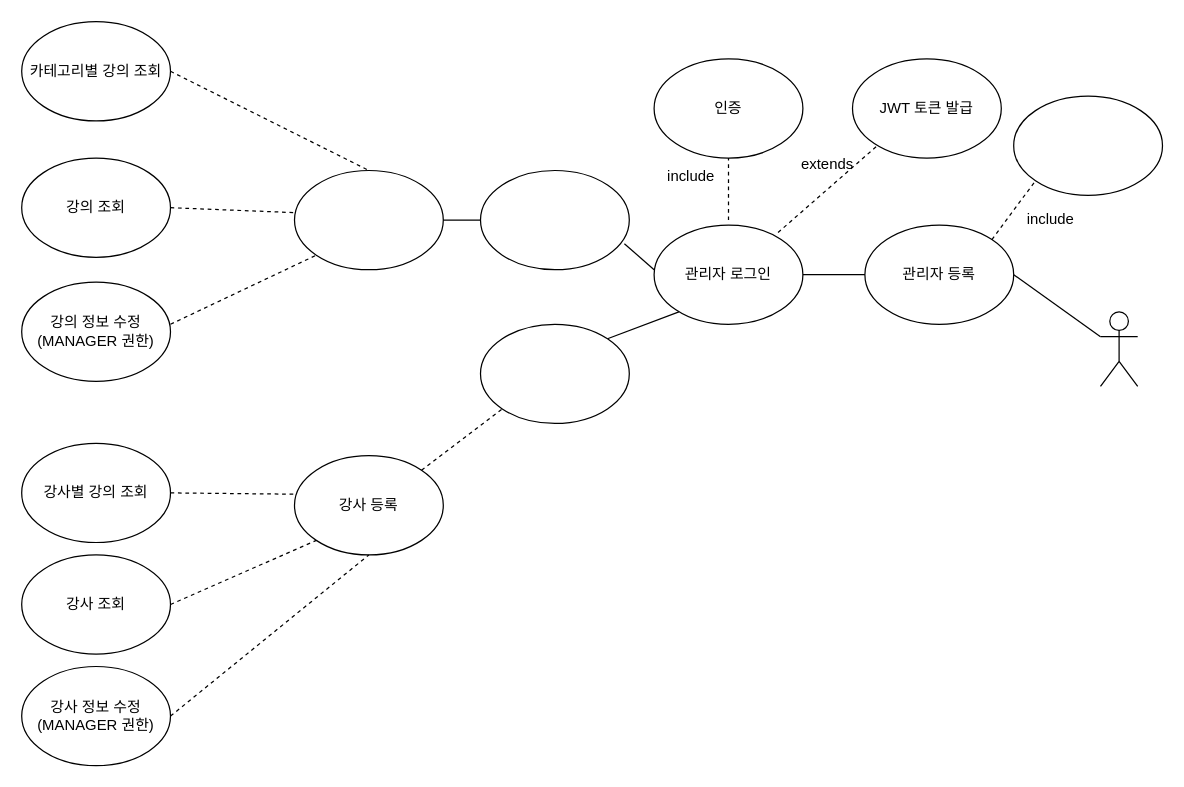
This 1184x787 diagram has some shape labels left out. The centre of each missing label's shape, as x and y in pixels:
"강사 관리" belongs at [554,373].
"강의 관리" belongs at [554,219].
"강의 등록" belongs at [368,219].
"관리자" belongs at [1118,348].
"이메일, 비밀번호 유효성 검사" belongs at [1087,145].
